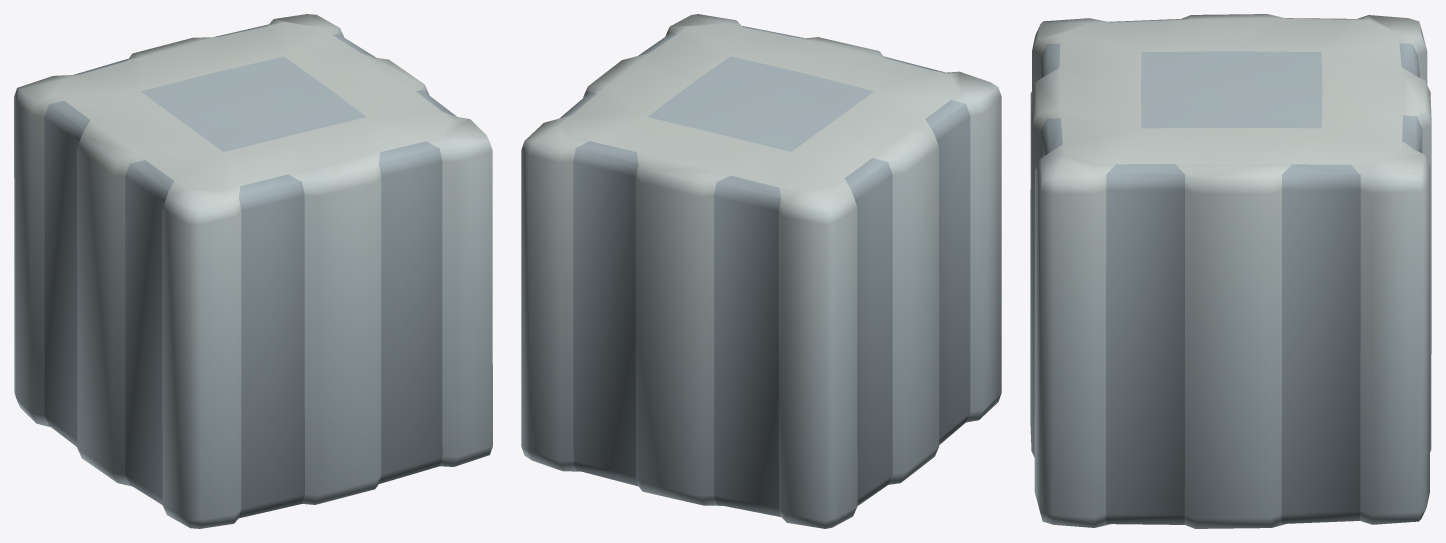
Rendered from Quartz_Pillar.fbx.
3 renders of one model, left to right at view 1: azimuth 30°, elevation 25°; view 2: azimuth 150°, elevation 25°; view 3: azimuth 270°, elevation 25°, orthographic. The views are drawn at different scales.
Parts seen in each view (by area): view 1: Quartz_Pillar_LOD0; view 2: Quartz_Pillar_LOD0; view 3: Quartz_Pillar_LOD0.
Part boxes in pixels (x1,y1,x2,y2): Quartz_Pillar_LOD0: [14, 14, 492, 528]; Quartz_Pillar_LOD0: [521, 14, 1001, 528]; Quartz_Pillar_LOD0: [1030, 14, 1431, 528].
Size of what is drawn, in the model's own units: 1.07 by 1.07 by 1.07.
